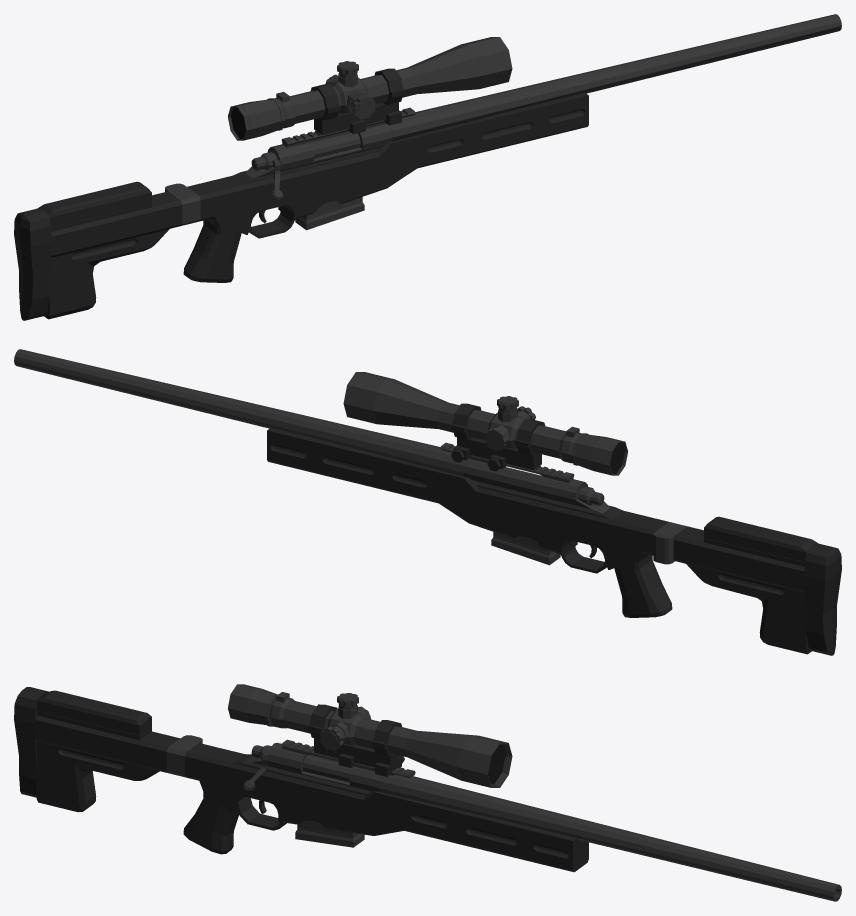
Rendered from Remington 700.fbx.
3 renders of one model, top to bottom at view 1: azimuth 30°, elevation 25°; view 2: azimuth 150°, elevation 25°; view 3: azimuth 330°, elevation 25°, orthographic.
Parts seen in each view (by area): view 1: Base, Sight (Opaque), Mount, Bolt, Mag; view 2: Base, Sight (Opaque), Mount, Mag; view 3: Base, Sight (Opaque), Mount, Bolt, Mag.
Part boxes in pixels (box(x1,y1,x2,y2)): Base: box(14, 14, 841, 320); Sight (Opaque): box(228, 37, 512, 140); Mount: box(310, 68, 404, 135); Bolt: box(251, 132, 360, 200); Mag: box(295, 163, 364, 230); Base: box(14, 349, 841, 655); Sight (Opaque): box(343, 372, 627, 475); Mount: box(451, 403, 545, 471); Mag: box(491, 492, 560, 565); Base: box(14, 687, 841, 901); Sight (Opaque): box(228, 684, 512, 787); Mount: box(308, 704, 404, 776); Bolt: box(244, 745, 353, 790); Mag: box(295, 776, 364, 847).
Bounding box in the file's own units: 345 × 74.39 × 23.19.
